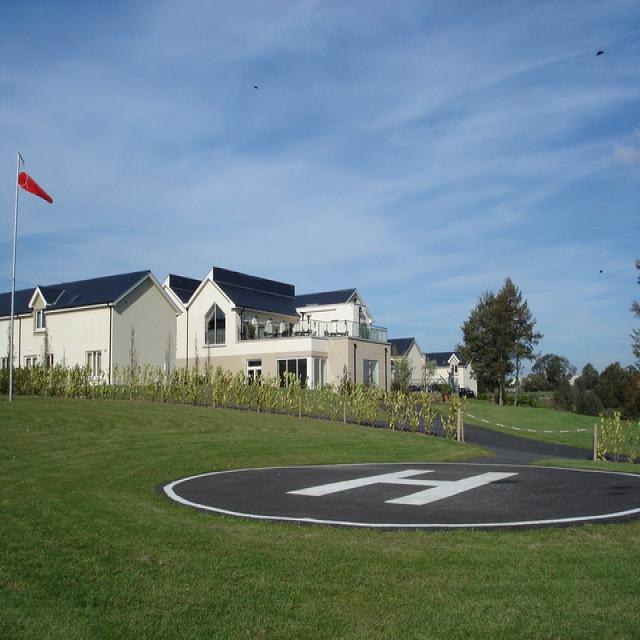helipad: (155, 455, 639, 532)
